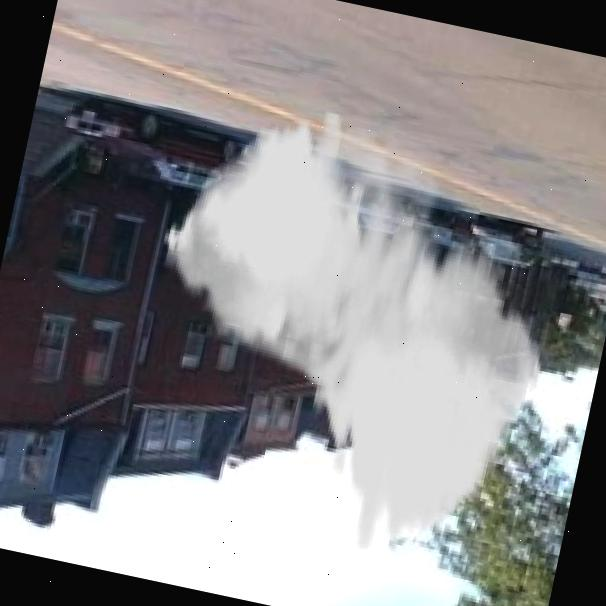smoke: (108, 81, 587, 578)
